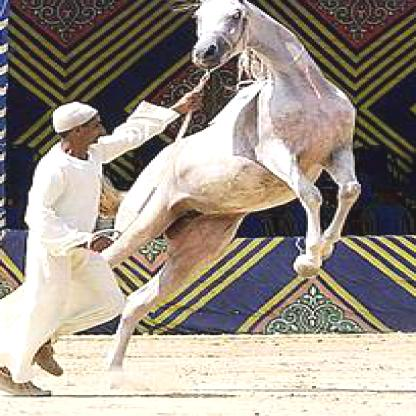horse: (110, 0, 361, 371)
